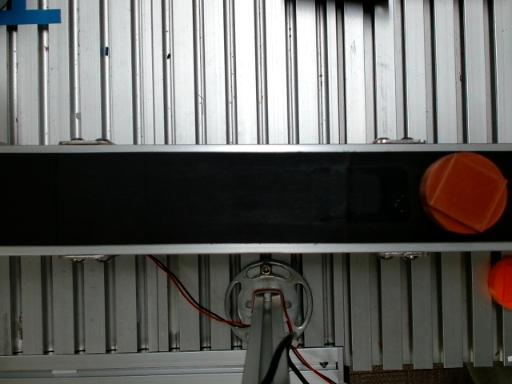Brown_Waper: (420, 153, 507, 234)
Square: (429, 153, 508, 234)
